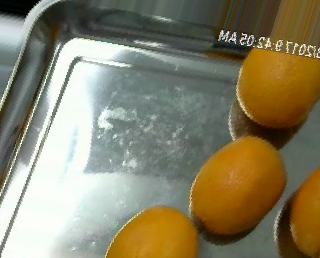Orange: (188, 134, 287, 235)
